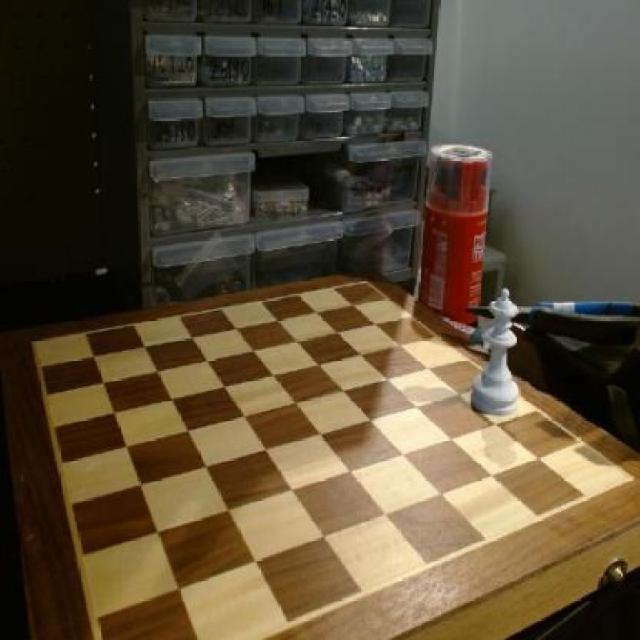white-pawn: (470, 286, 522, 417)
